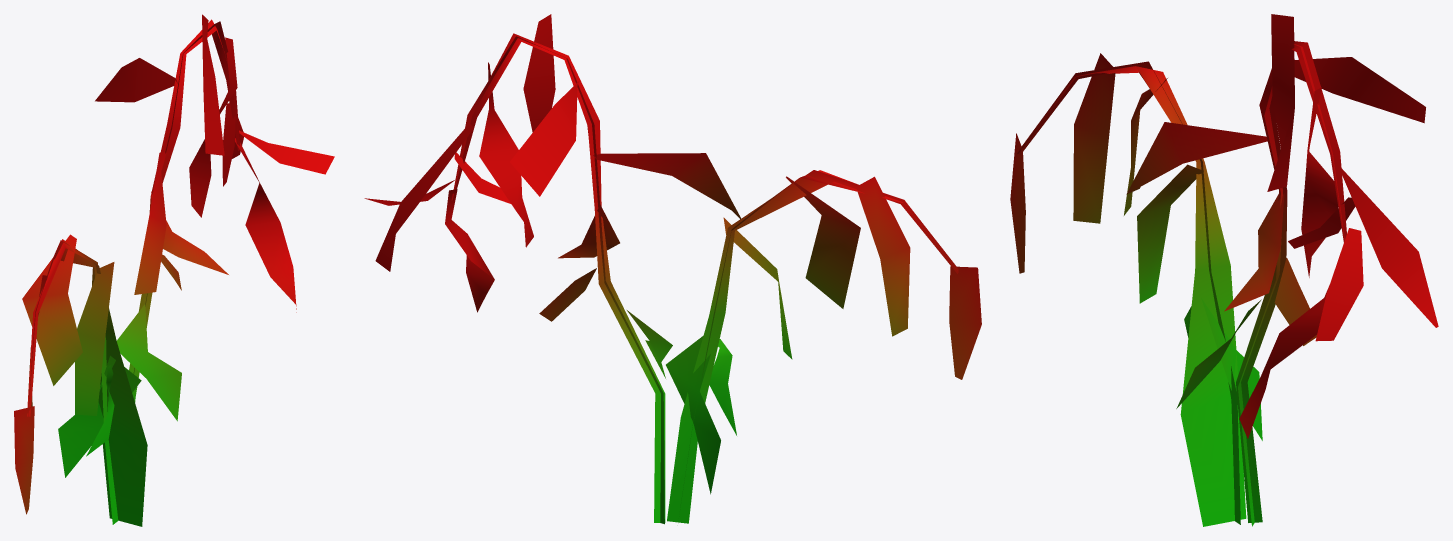
Rendered from Var4_LOD1.fbx.
3 renders of one model, left to right at view 1: azimuth 30°, elevation 25°; view 2: azimuth 150°, elevation 25°; view 3: azimuth 270°, elevation 25°, orthographic. The views are drawn at different scales.
Visible parts, largest first — view 1: _ed0f_Var4_LOD1; view 2: _ed0f_Var4_LOD1; view 3: _ed0f_Var4_LOD1.
Part boxes in pixels (x1=…): _ed0f_Var4_LOD1: x1=14, y1=14, x2=334, y2=526; _ed0f_Var4_LOD1: x1=364, y1=14, x2=981, y2=524; _ed0f_Var4_LOD1: x1=1010, y1=14, x2=1438, y2=526.
Bounding box in the file's own units: 21.14 × 20.81 × 14.14.
